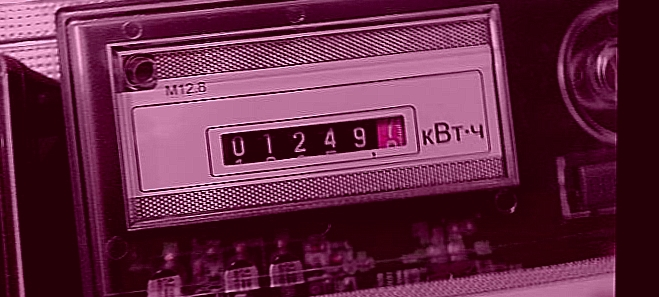0: (228, 128, 248, 154)
1: (260, 127, 276, 152)
2: (290, 125, 311, 152)
4: (322, 120, 341, 147)
7: (383, 112, 398, 137)
9: (351, 120, 370, 145)
screen: (200, 102, 434, 180)
